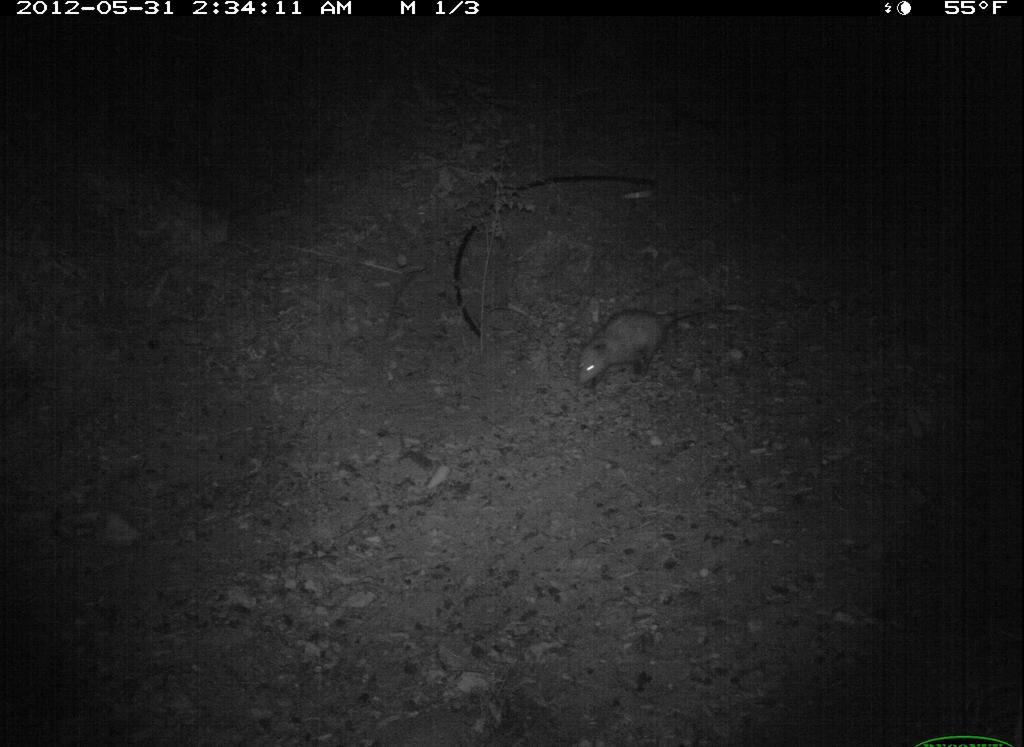opossum: (553, 285, 702, 413)
